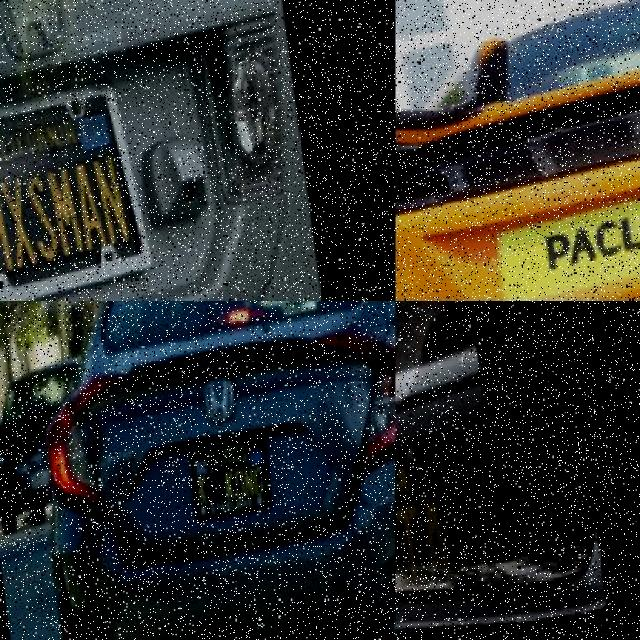licenseplate: (0, 75, 162, 300), (396, 438, 510, 637), (501, 203, 640, 300), (187, 432, 279, 532)
